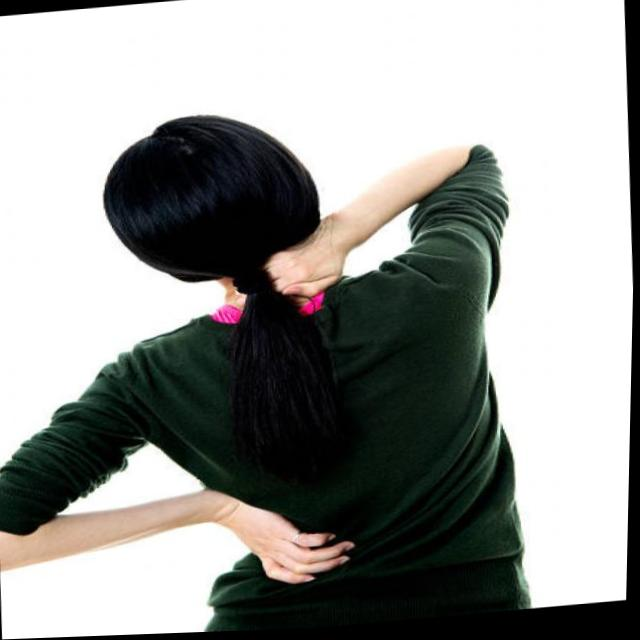no helmet: (98, 99, 330, 327)
